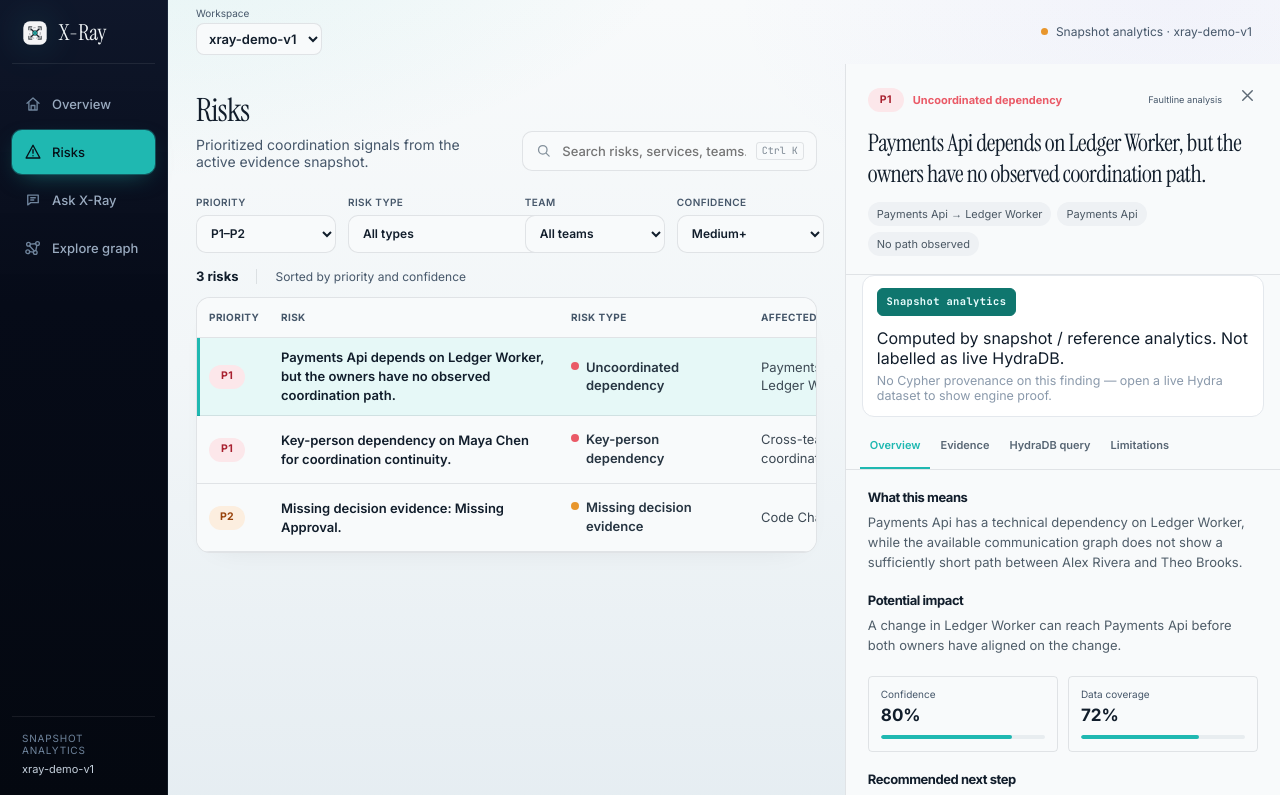
selecting a risk opens its evidence-backed explanation
Select "All priorities" in the dropdown showing "P1–P2" at (266, 234), box x1=196 y1=215 x2=336 y2=253
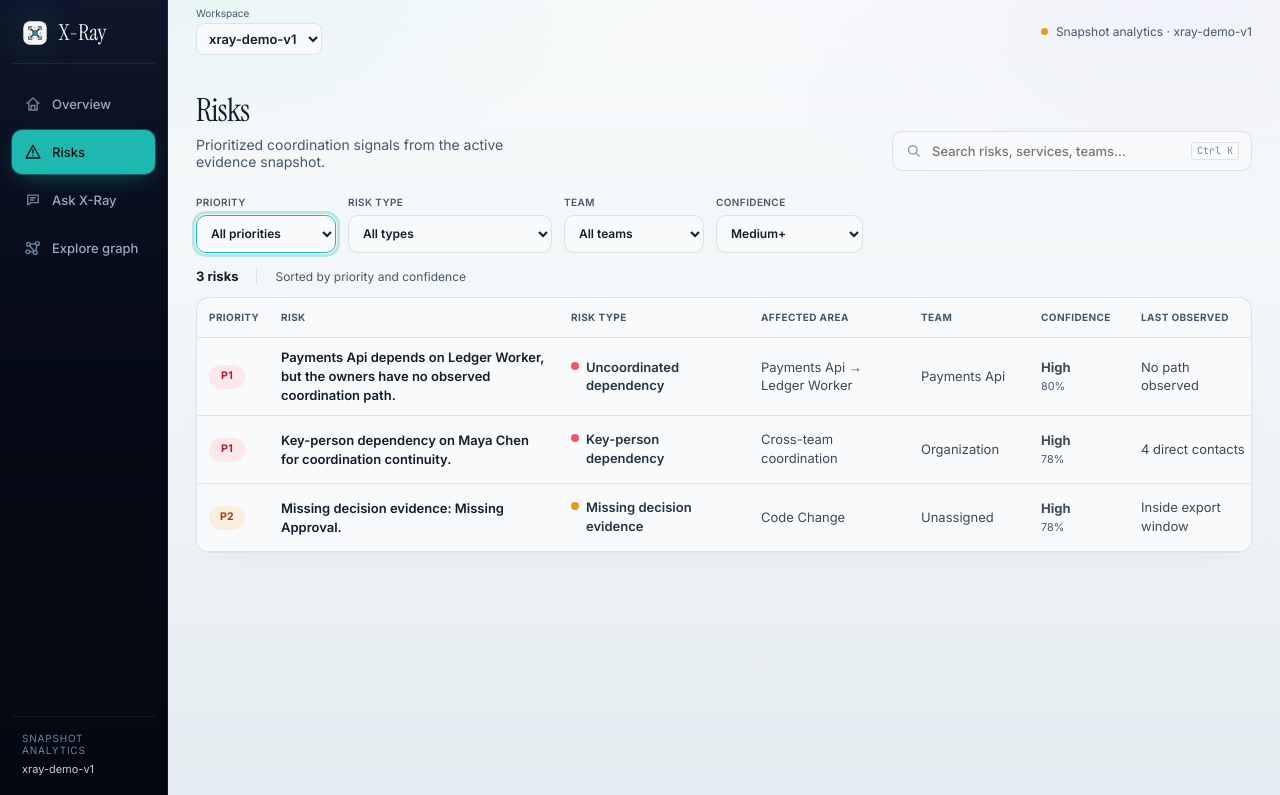
Select "All confidence" in the dropdown showing "Medium+" at (790, 234), box x1=716 y1=215 x2=863 y2=253
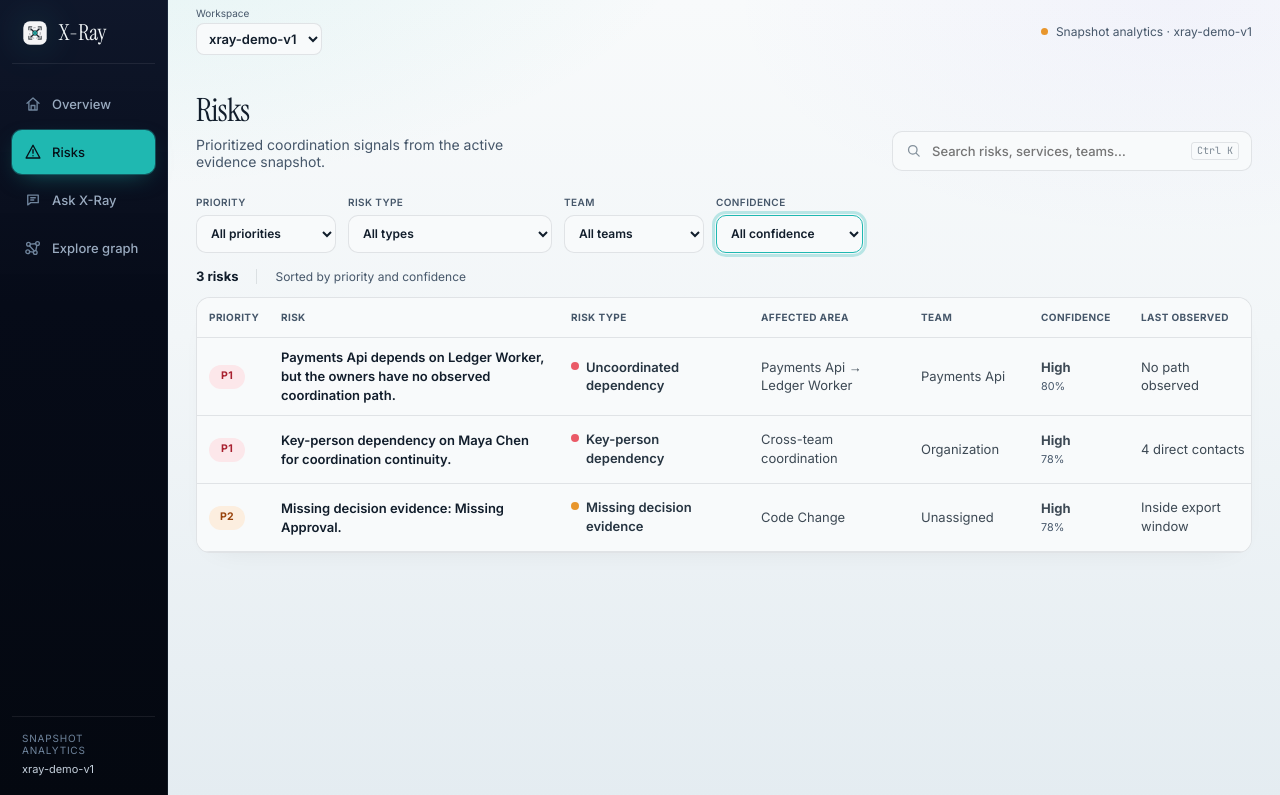
Click the button "Missing decision evidence: Missing Approval." at (414, 518), box x1=281 y1=499 x2=547 y2=536
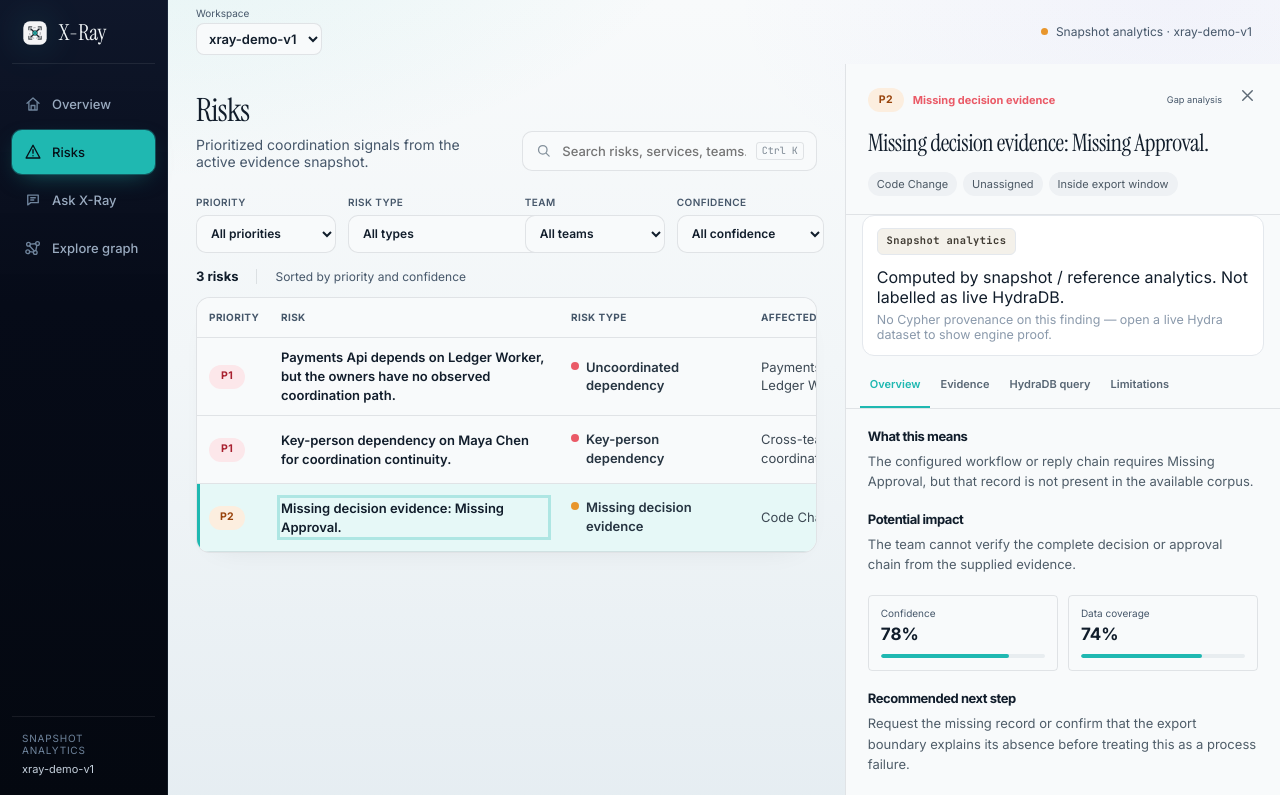
Result: the heading "Missing decision evidence: Missing Approval." is shown at x1=868 y1=129 x2=1258 y2=160
Result: the heading "What this means" is shown at x1=868 y1=429 x2=967 y2=445
Click the tab "Limitations" at (1140, 386), box x1=1101 y1=364 x2=1179 y2=408
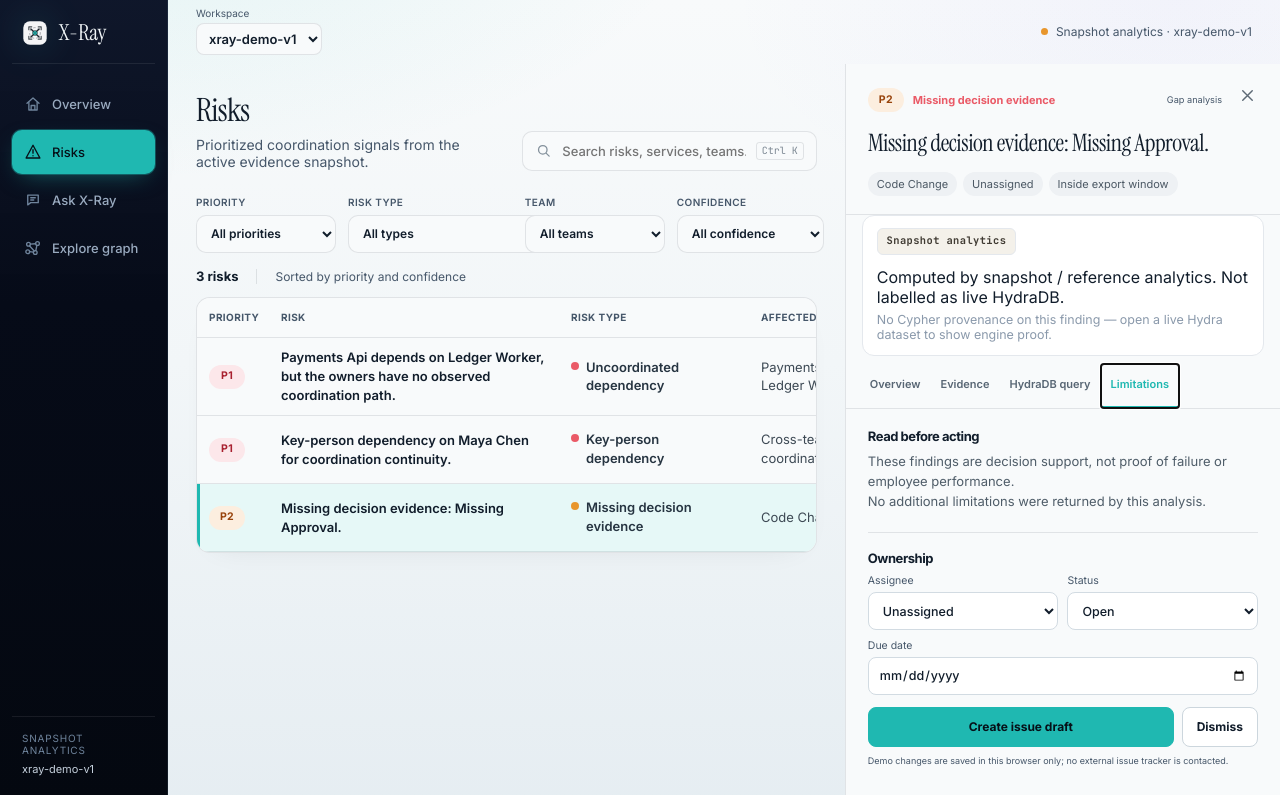
Result: the heading "Read before acting" is shown at x1=868 y1=429 x2=979 y2=445
